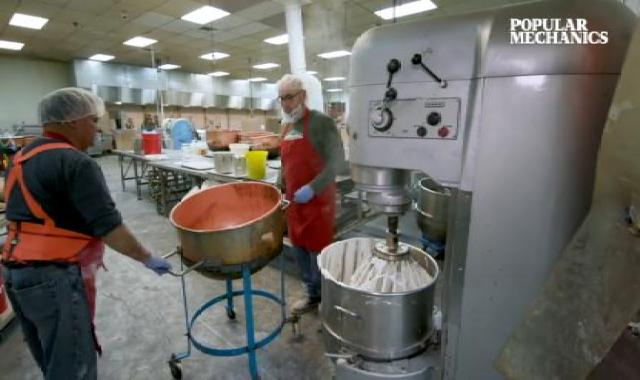hairnet: (35, 83, 115, 130), (275, 65, 321, 112)
